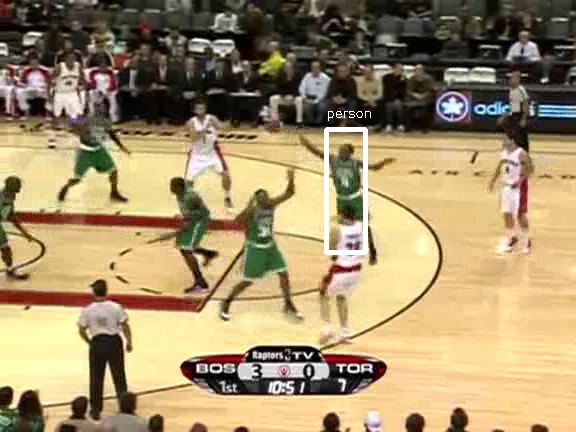person: (330, 152, 364, 233), (329, 152, 363, 233), (331, 152, 365, 233), (330, 151, 364, 232), (330, 153, 364, 234)
target_negative: (151, 44, 275, 412), (439, 158, 529, 385), (152, 224, 274, 367), (11, 224, 100, 419), (502, 70, 545, 252), (529, 270, 531, 321)
